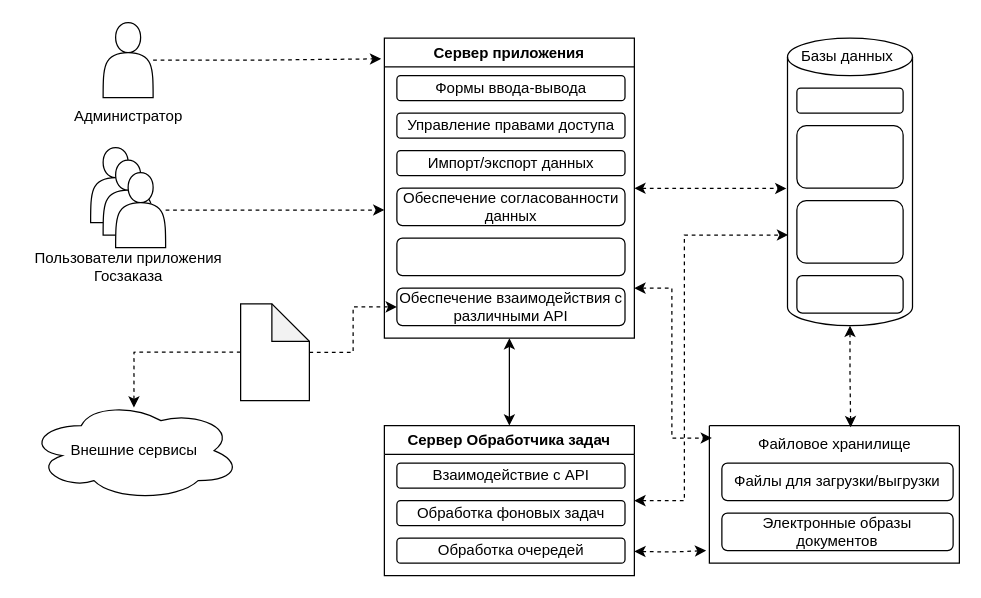
This 981x598 diagram has some shape labels left out. The centre of each missing label's shape, as x and y in pixels:
XML/json: (274,351)
Временное хранилище данных: (849,156)
Метаданные: (849,100)
Очередь сообщений: (849,293)
Постоянное хранилище данных: (849,231)
Управление настройками системы: (510,256)
